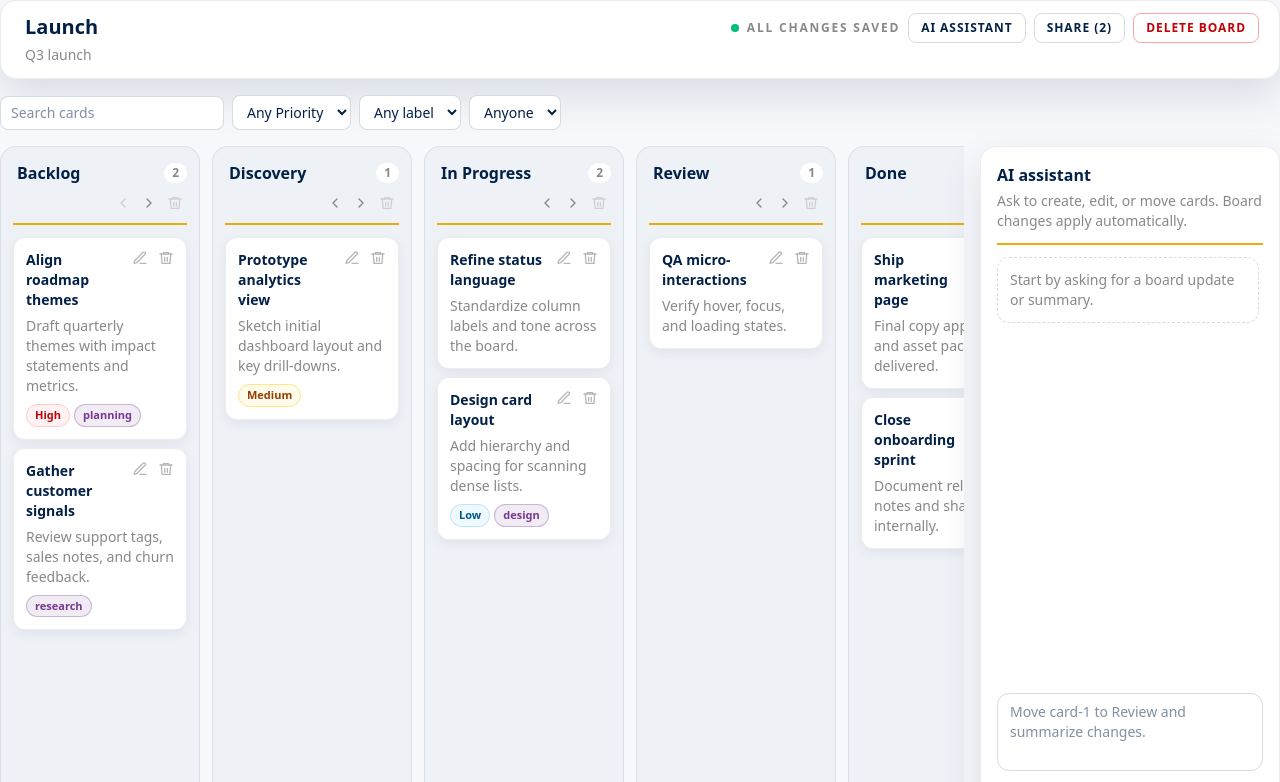
it: KanbanBoard › hides the AI assistant and remembers the choice
Click the button "AI assistant".
click(967, 28)  # box [908,13,1026,43]
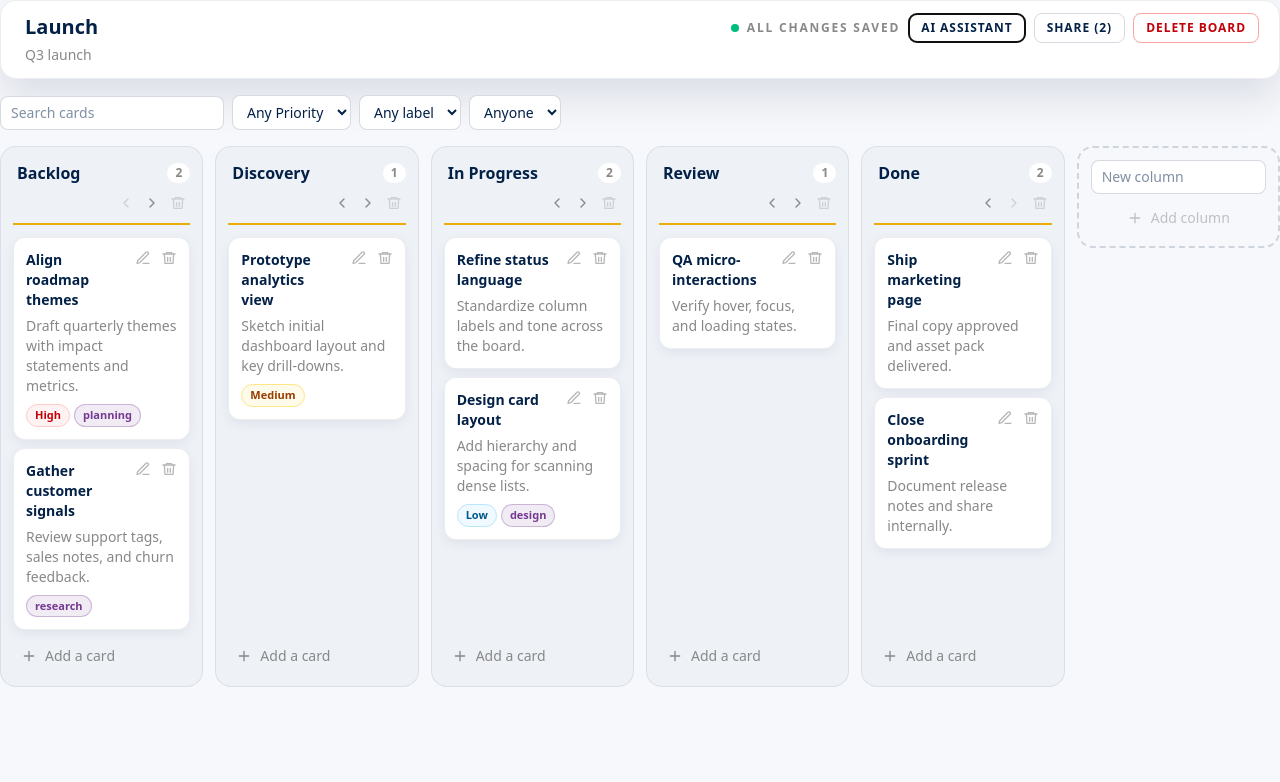
Expected: the field labelled "Message" is not shown
Click the button "AI assistant".
click(967, 28)  # box [908,13,1026,43]
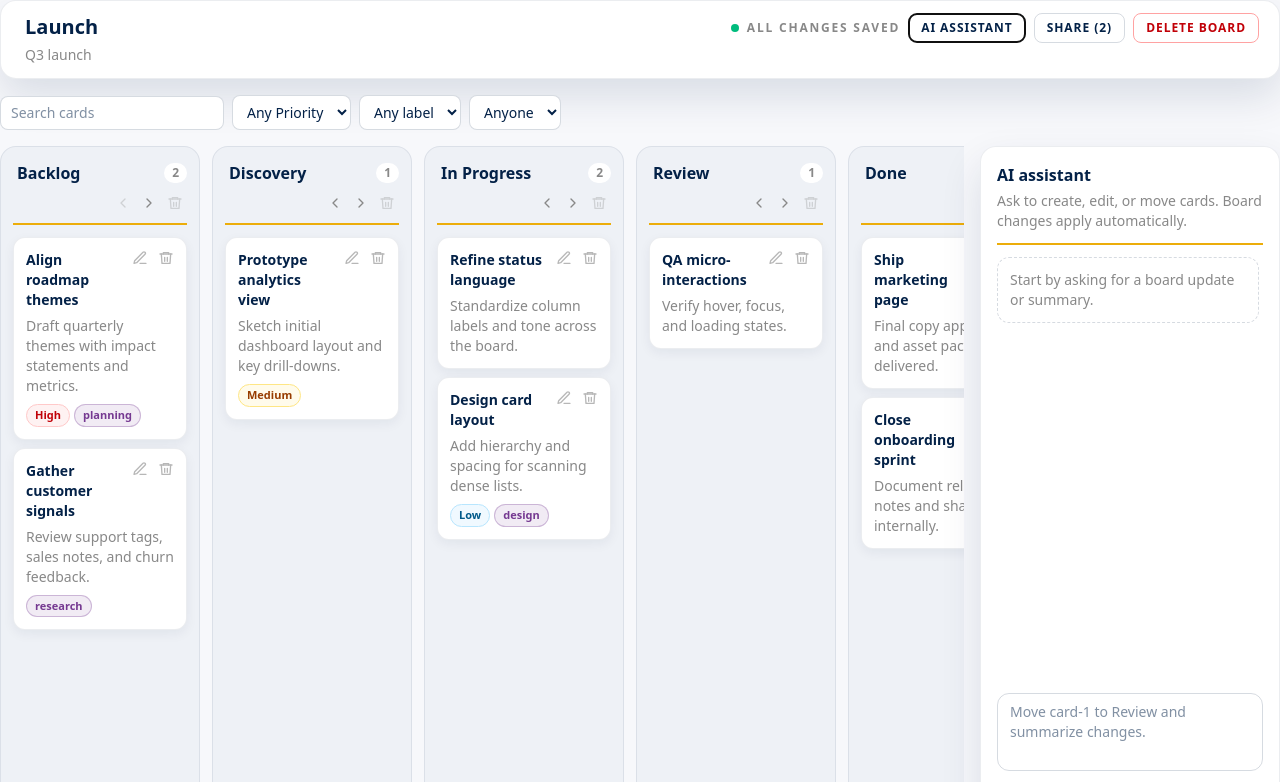
Result: the text box named "Message" is shown at [997,693,1263,771]
